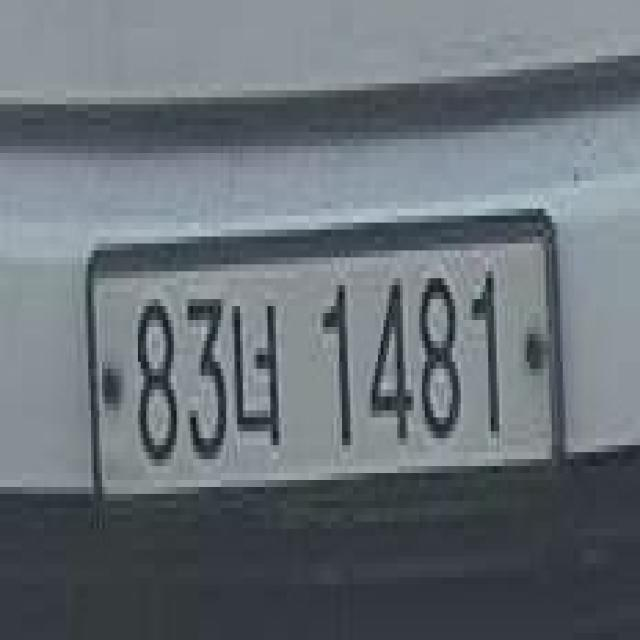plat: (85, 208, 561, 513)
